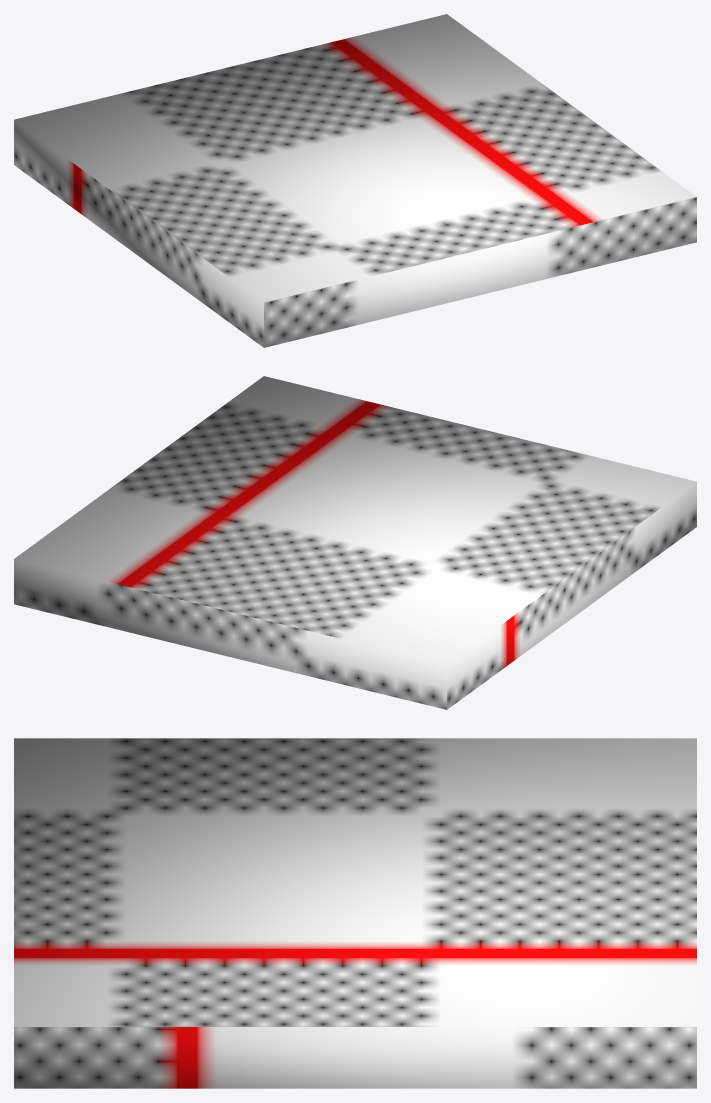
File: ceiling.obj
The picture shows the model from 3 angles, top to bottom: view 1: azimuth 30°, elevation 25°; view 2: azimuth 150°, elevation 25°; view 3: azimuth 270°, elevation 25°; orthographic projection. The views are drawn at different scales.
Parts seen in each view (by area): view 1: ceiling; view 2: ceiling; view 3: ceiling.
Boxes of the visible parts, x1,y1,x2,y2 form: ceiling: (14,14,696,347); ceiling: (14,376,696,709); ceiling: (14,738,696,1088).
Bounding box in the file's own units: 10 × 1 × 10.
